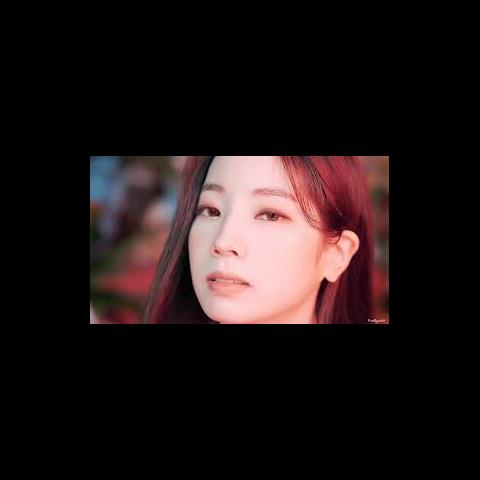opened: (194, 179, 306, 236)
